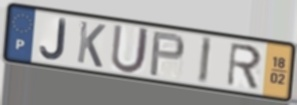I: (196, 35, 214, 87)
J: (38, 17, 68, 62)
K: (75, 19, 108, 70)
P: (148, 30, 187, 78)
R: (225, 41, 264, 91)
U: (109, 23, 152, 76)
